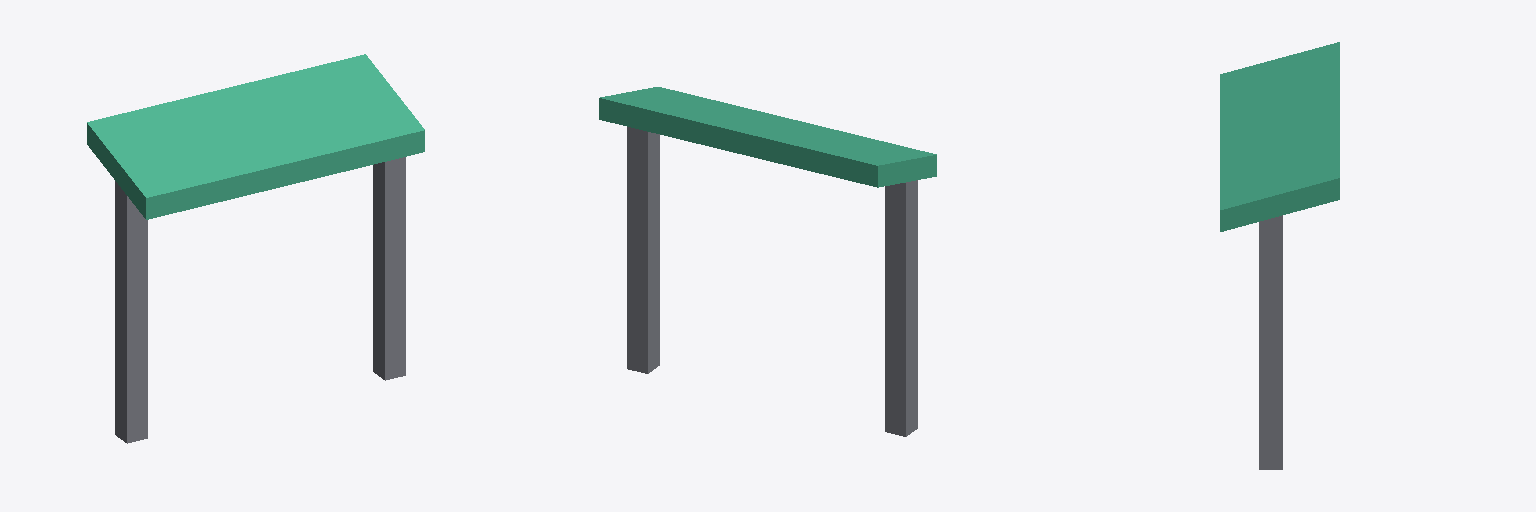
Rendered from detail_awning.obj.
3 renders of one model, left to right at view 1: azimuth 30°, elevation 25°; view 2: azimuth 150°, elevation 25°; view 3: azimuth 270°, elevation 25°, orthographic.
Visible parts, largest first — view 1: detail_awning; view 2: detail_awning; view 3: detail_awning.
Part boxes in pixels (x1,y1,x2,y2): detail_awning: (87, 54, 424, 443); detail_awning: (599, 87, 936, 436); detail_awning: (1220, 42, 1339, 469).
Size of the model in its own units: 0.4 by 0.4 by 0.1479.